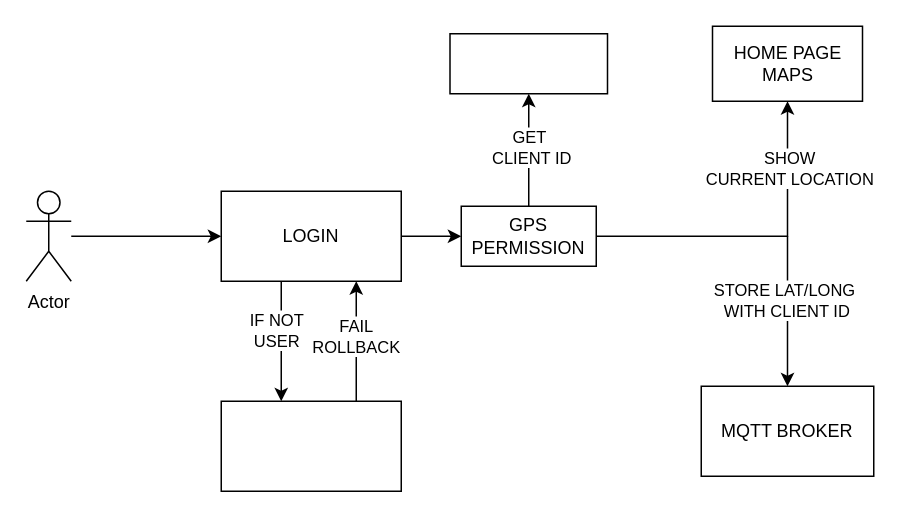
This 900x518 diagram has some shape labels left out. The shapes that lost their labels are listed below. From the top down, each one's centre as x and y in pixels, then its label:
(528,63): FETCH NEO4J
(310,445): SIGN UP
